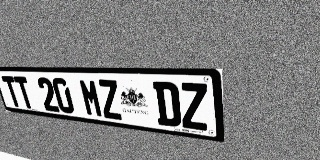0: (51, 78, 75, 114)
2: (36, 77, 60, 112)
D: (153, 81, 182, 128)
M: (78, 79, 104, 118)
T: (13, 76, 35, 109), (1, 76, 23, 107)
Z: (179, 82, 209, 131), (97, 79, 123, 120)
